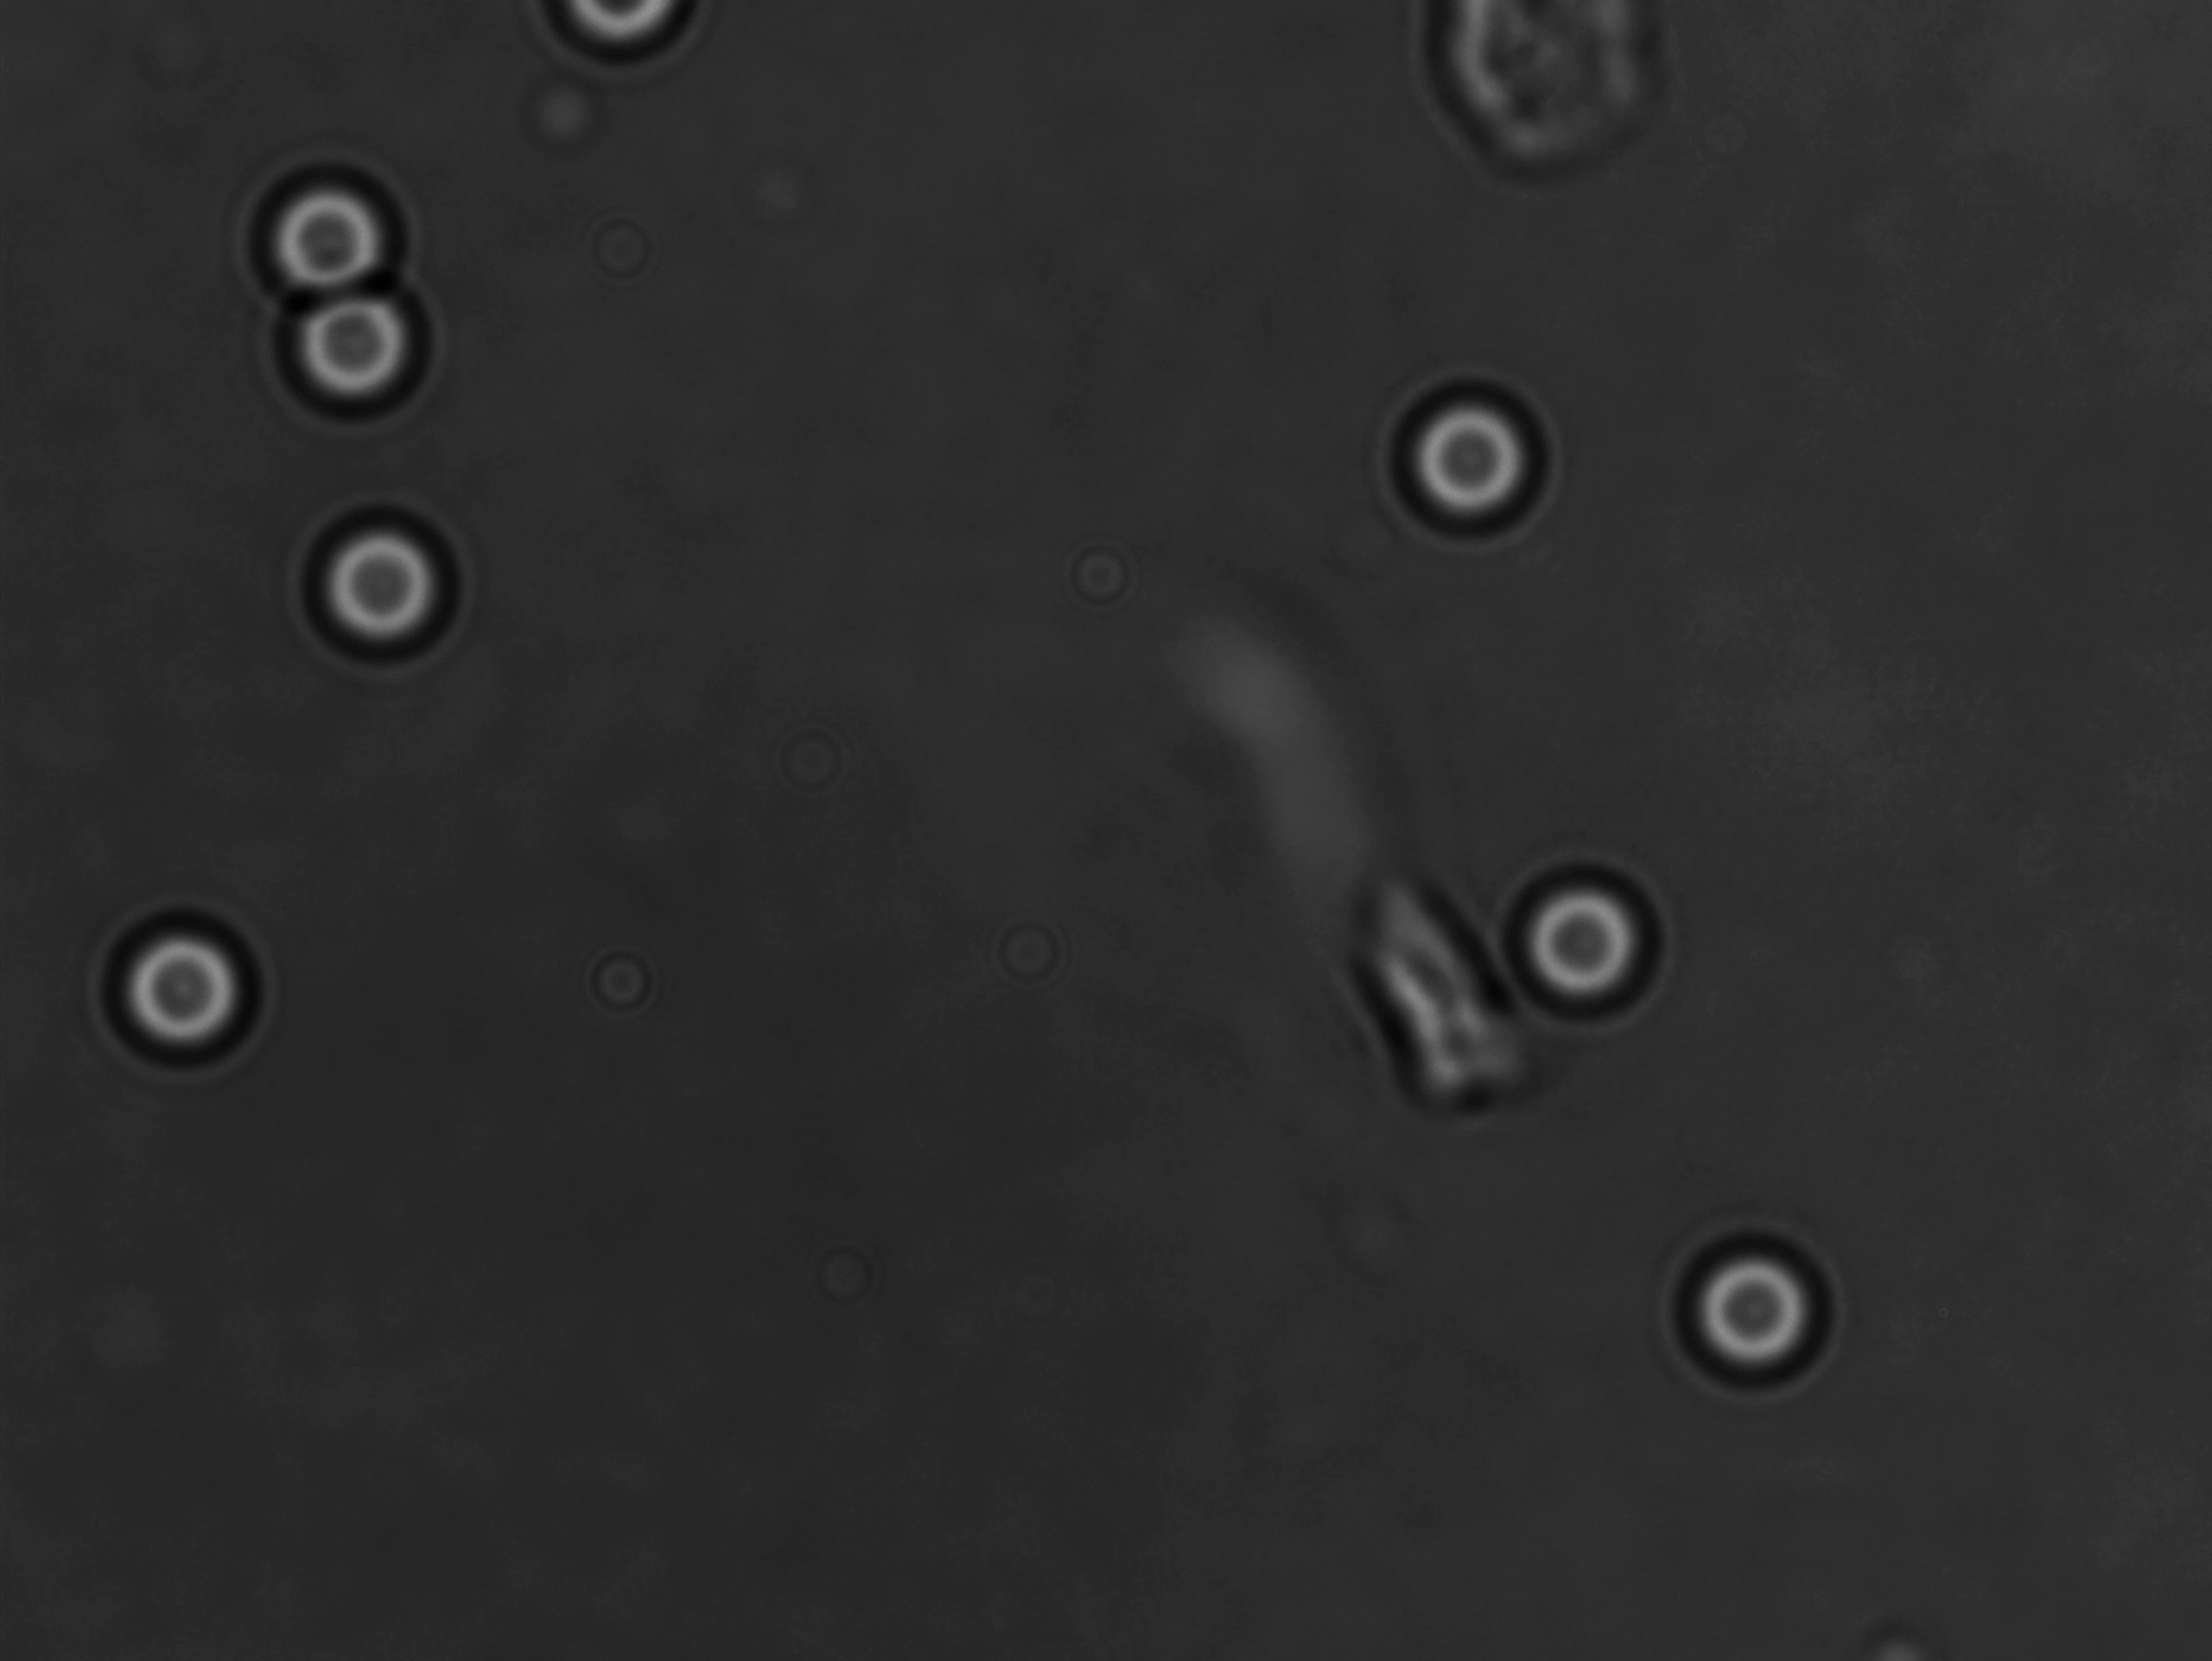depth:40: (1657, 1213, 1861, 1418), (89, 893, 277, 1075), (291, 489, 476, 670), (1499, 850, 1680, 1021), (1376, 377, 1553, 551), (237, 167, 426, 323), (274, 286, 443, 443)
